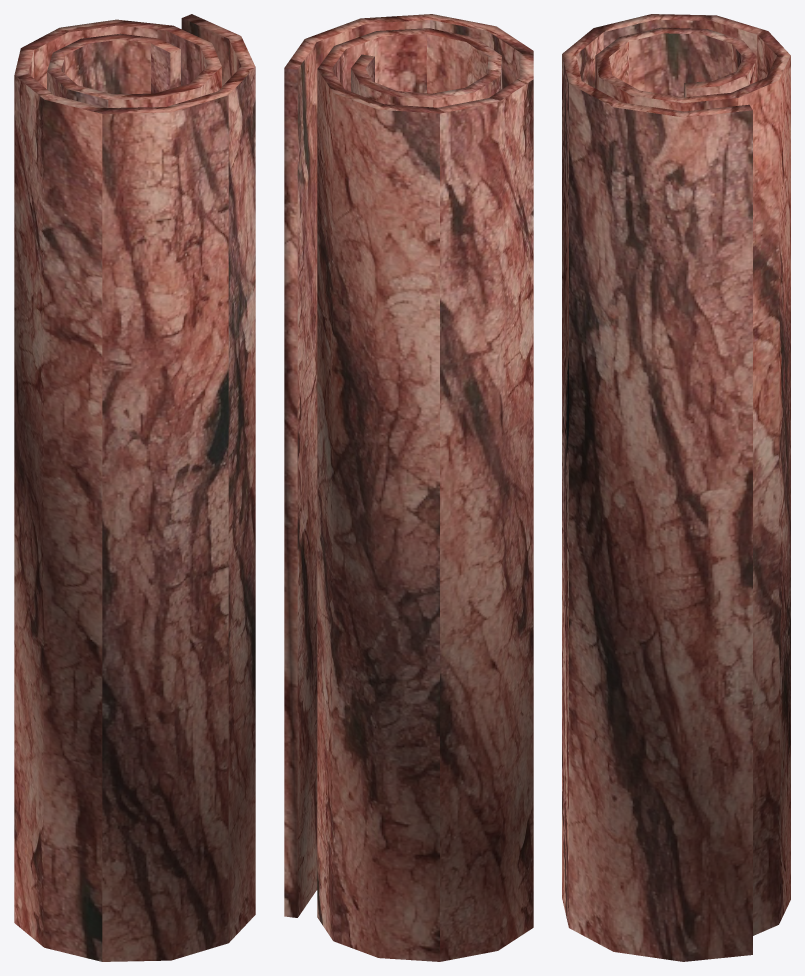
The model's file is Cinammon.fbx.
3 views of the same model, side by side, from view 1: azimuth 30°, elevation 25°; view 2: azimuth 150°, elevation 25°; view 3: azimuth 270°, elevation 25° (orthographic).
Parts seen in each view (by area): view 1: Cinammon; view 2: Cinammon; view 3: Cinammon.
Boxes of the visible parts, x1,y1,x2,y2 form: Cinammon: (14,14,255,961); Cinammon: (284,14,533,961); Cinammon: (562,14,790,961).
Size of the model in its own units: 263 by 1000 by 245.
